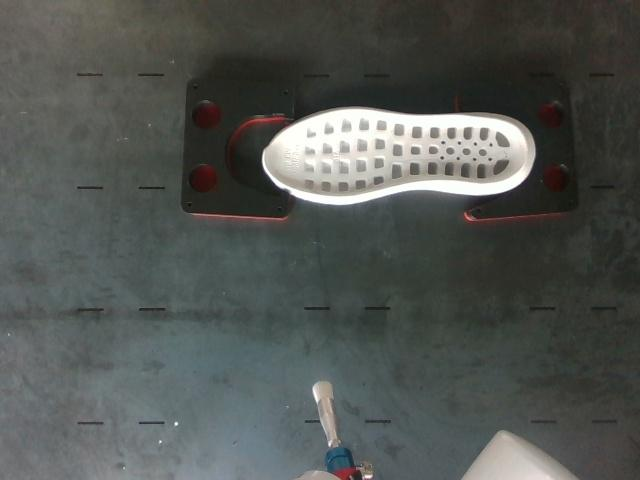shoes: (264, 109, 528, 196)
